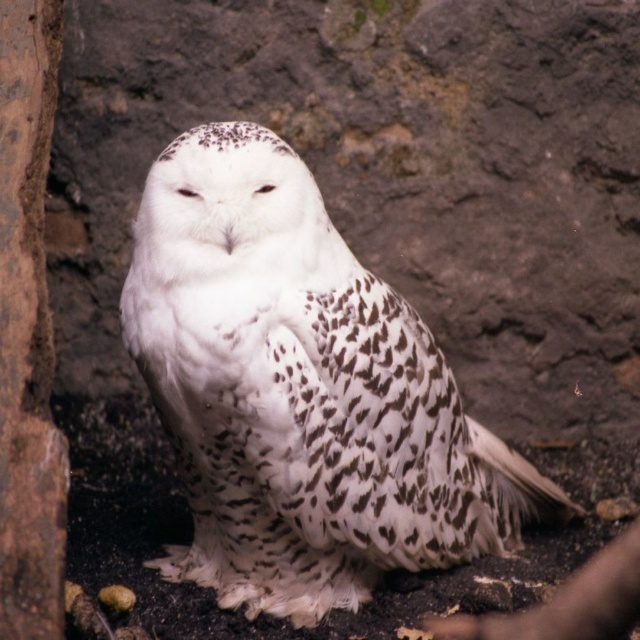Owl: (120, 121, 586, 637)
